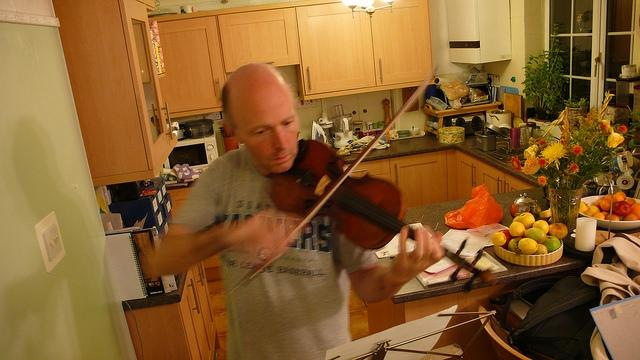apple: (498, 229, 516, 250), (524, 227, 546, 244), (518, 238, 538, 256), (541, 236, 561, 254), (548, 223, 568, 240), (518, 212, 536, 229), (612, 201, 632, 216), (508, 237, 524, 254), (532, 219, 550, 234), (509, 221, 525, 237), (491, 232, 509, 246), (531, 243, 548, 256), (587, 205, 600, 217), (600, 200, 611, 211), (612, 194, 624, 204), (623, 214, 640, 221), (579, 202, 589, 212), (606, 214, 620, 221), (603, 194, 611, 202), (536, 218, 551, 222)
